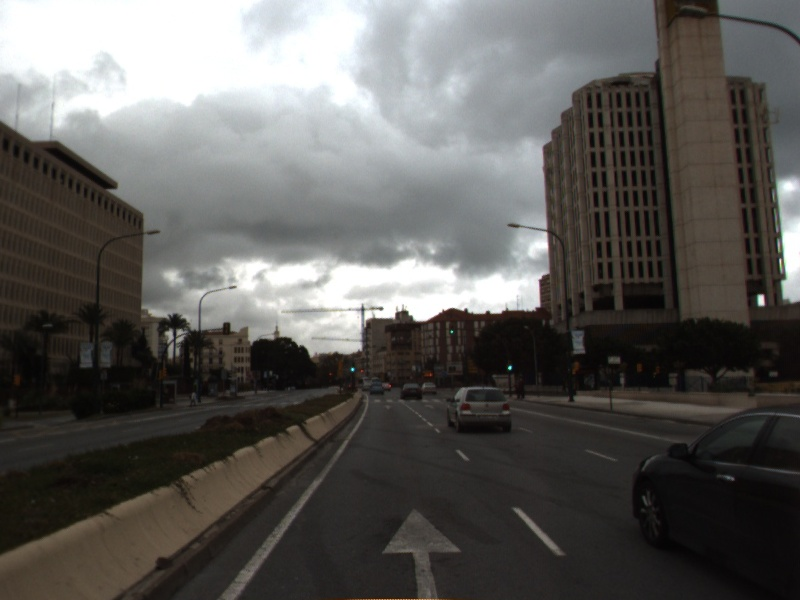STRAIGHT: (377, 504, 466, 600), (380, 403, 395, 412), (422, 402, 436, 410)
